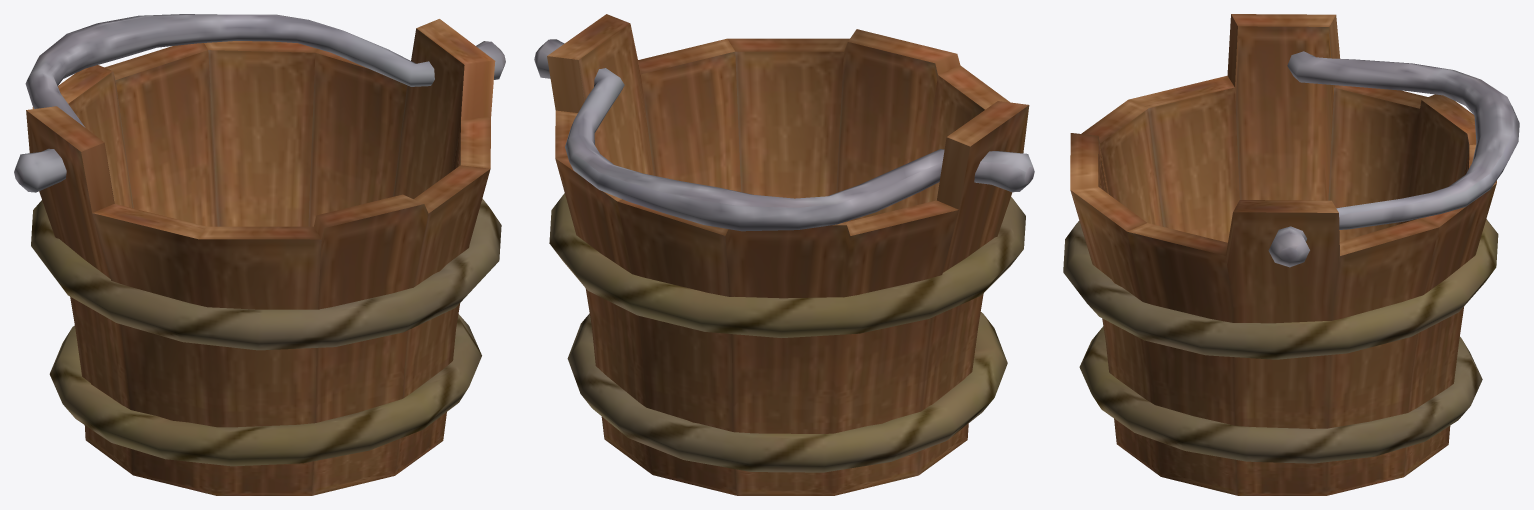
The model's file is traspann.glb.
The picture shows the model from 3 angles, left to right: view 1: azimuth 30°, elevation 25°; view 2: azimuth 150°, elevation 25°; view 3: azimuth 270°, elevation 25°; orthographic projection. The views are drawn at different scales.
Visible parts, largest first — view 1: Bucket_Wooden_1; view 2: Bucket_Wooden_1; view 3: Bucket_Wooden_1.
Part boxes in pixels (<box>): Bucket_Wooden_1: <box>14,14,505,495</box>; Bucket_Wooden_1: <box>534,14,1034,495</box>; Bucket_Wooden_1: <box>1063,14,1519,495</box>.
Size of the model in its own units: 0.4339 by 0.2928 by 0.3834.
Materials: 2 (2 with a texture image).
